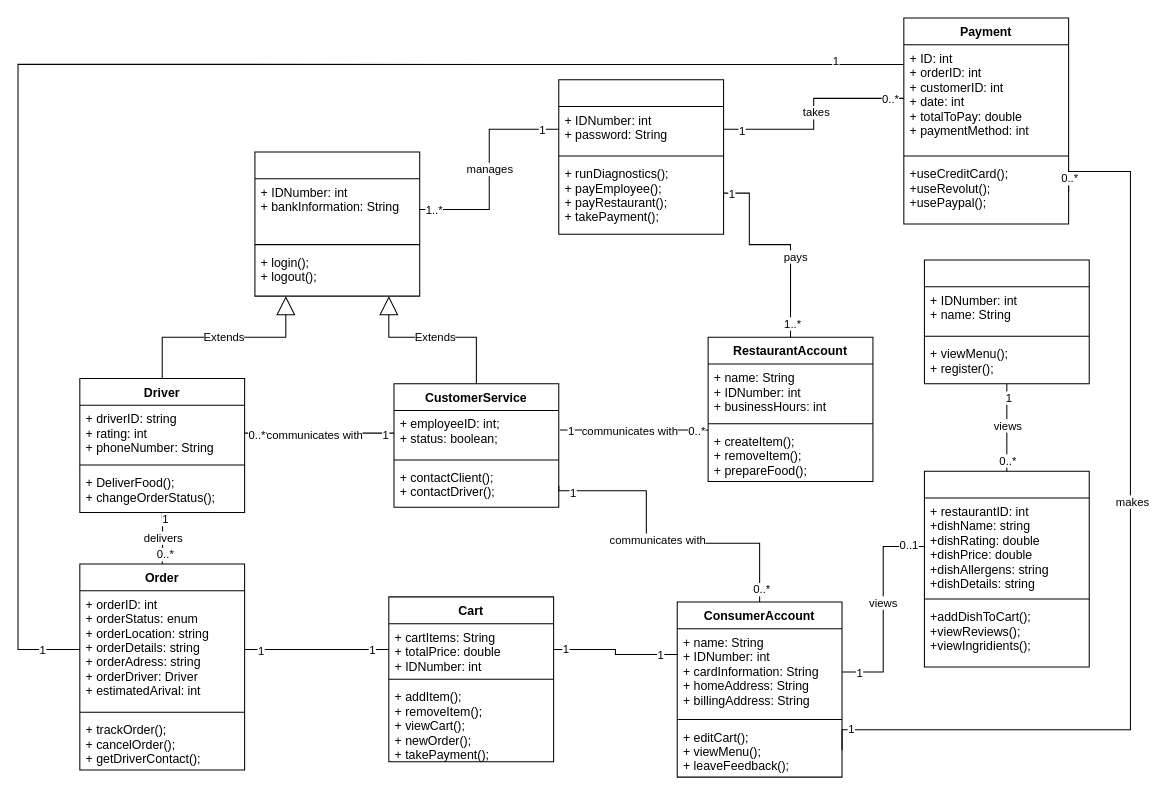
This 1166x798 diagram has some shape labels left out. Here are the shapes that lost their labels. From the top down, the box of each, then its label:
(558, 79, 724, 234): Admin
(254, 151, 420, 296): Employee
(923, 259, 1089, 384): Guest
(923, 470, 1089, 667): RestaurantMenu
